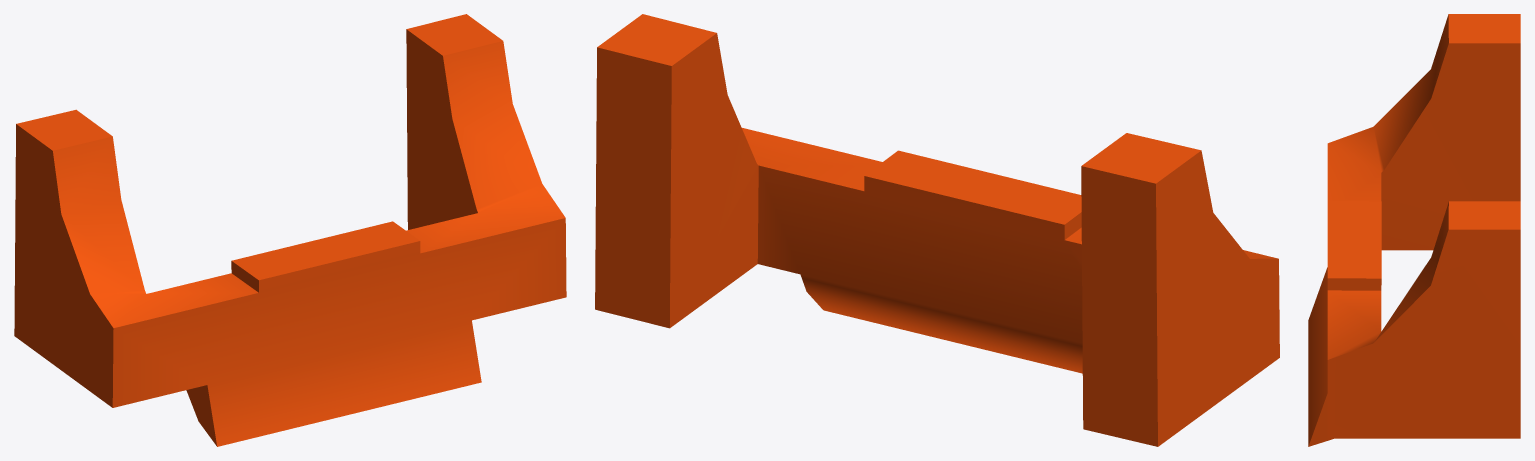
The model's file is Beard 05.FBX.
3 views of the same model, side by side, from view 1: azimuth 30°, elevation 25°; view 2: azimuth 150°, elevation 25°; view 3: azimuth 270°, elevation 25° (orthographic). The views are drawn at different scales.
Parts seen in each view (by area): view 1: Beard 05; view 2: Beard 05; view 3: Beard 05.
Part boxes in pixels (x1=…): Beard 05: x1=14, y1=14, x2=566, y2=446; Beard 05: x1=595, y1=14, x2=1279, y2=446; Beard 05: x1=1308, y1=14, x2=1520, y2=446.
Size of the model in its own units: 52.21 by 29.31 by 21.55.
Materials: 1 (1 with a texture image).
